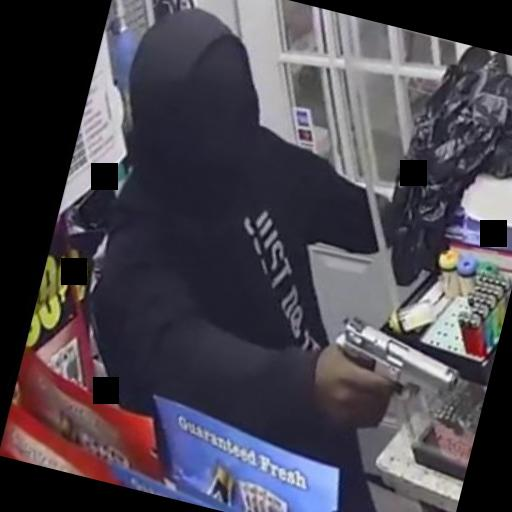Handgun: (308, 309, 470, 447)
